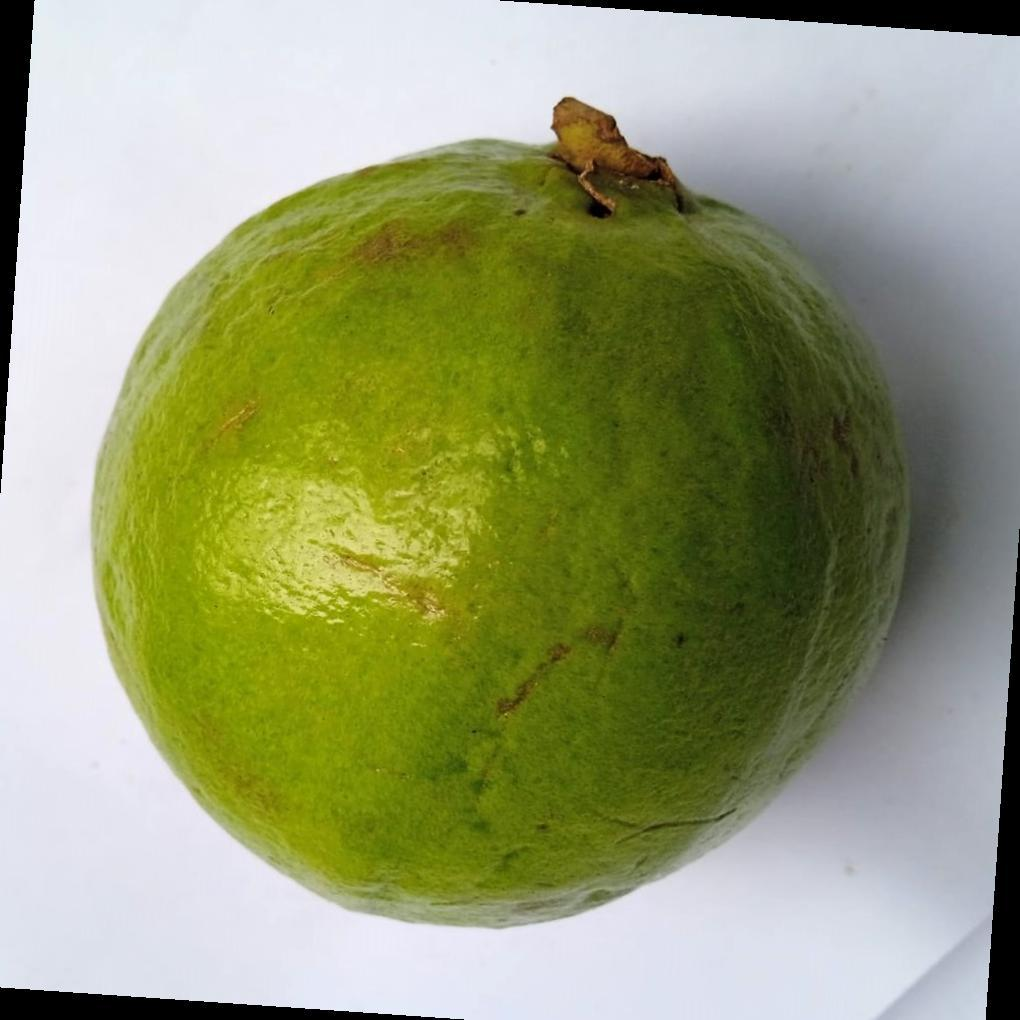FreshGuava: (86, 97, 911, 932)
